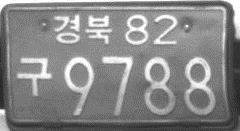2: (152, 13, 178, 48)
7: (101, 54, 133, 118)
8: (182, 55, 217, 118), (143, 56, 177, 118), (123, 13, 150, 46)
9: (62, 55, 96, 117)
경북_O: (52, 13, 112, 46)
구: (15, 54, 53, 97)
